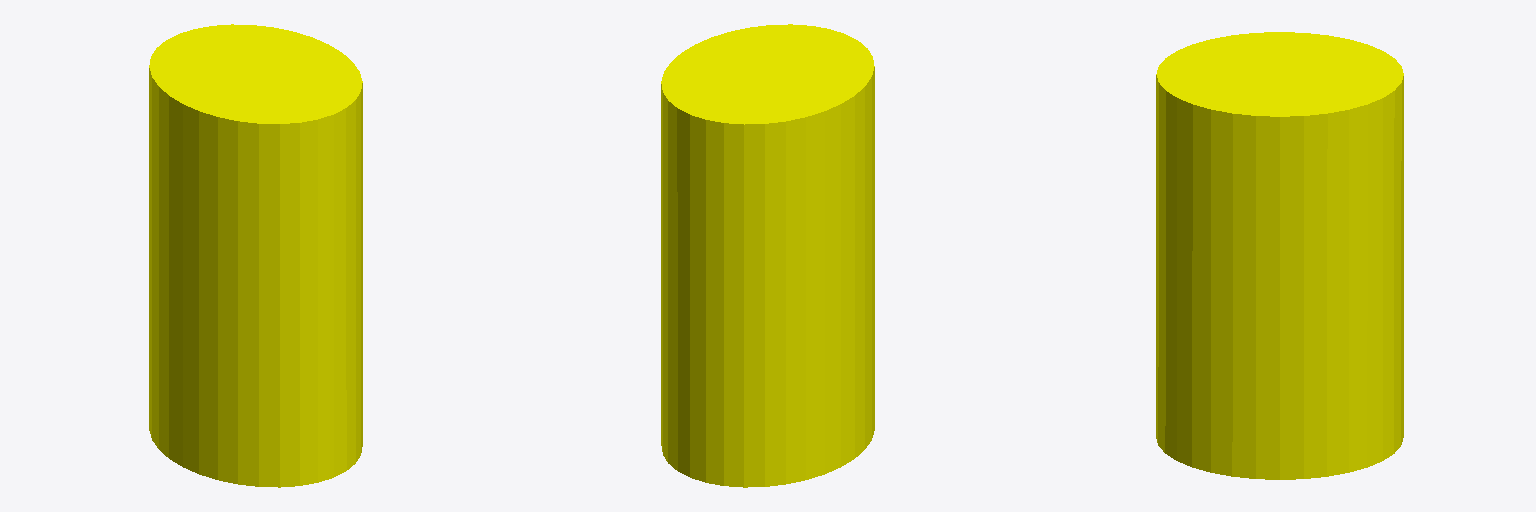
File: Gkuka4.obj
3 renders of one model, left to right at view 1: azimuth 30°, elevation 25°; view 2: azimuth 150°, elevation 25°; view 3: azimuth 270°, elevation 25°, orthographic.
Visible parts, largest first — view 1: unnamed_object1; view 2: unnamed_object1; view 3: unnamed_object1.
Part boxes in pixels (left/top/right/bottom): unnamed_object1: left=149, top=24, right=362, bottom=487; unnamed_object1: left=661, top=24, right=874, bottom=487; unnamed_object1: left=1156, top=32, right=1403, bottom=479.
Size of the model in its own units: 0.1331 by 0.2658 by 0.1644.